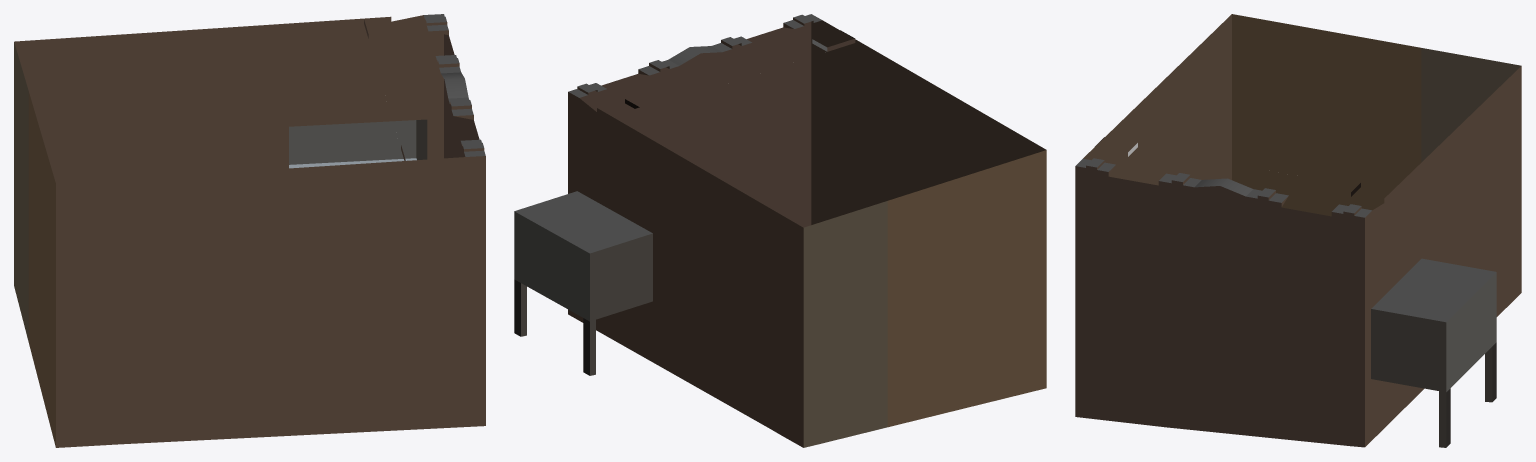
Rendered from 811-lindsay-street.glb.
3 views of the same model, side by side, from view 1: azimuth 30°, elevation 25°; view 2: azimuth 150°, elevation 25°; view 3: azimuth 270°, elevation 25° (orthographic). The views are drawn at different scales.
Visible parts, largest first — view 1: LOD0; view 2: LOD0; view 3: LOD0.
Boxes of the visible parts, bbox=[...] form: LOD0: bbox=[14, 14, 485, 447]; LOD0: bbox=[514, 14, 1046, 447]; LOD0: bbox=[1075, 14, 1521, 447].
Size of what is drawn, in the model's own units: 21.89 by 12.16 by 19.14.
Materials: 2 (2 with a texture image).
